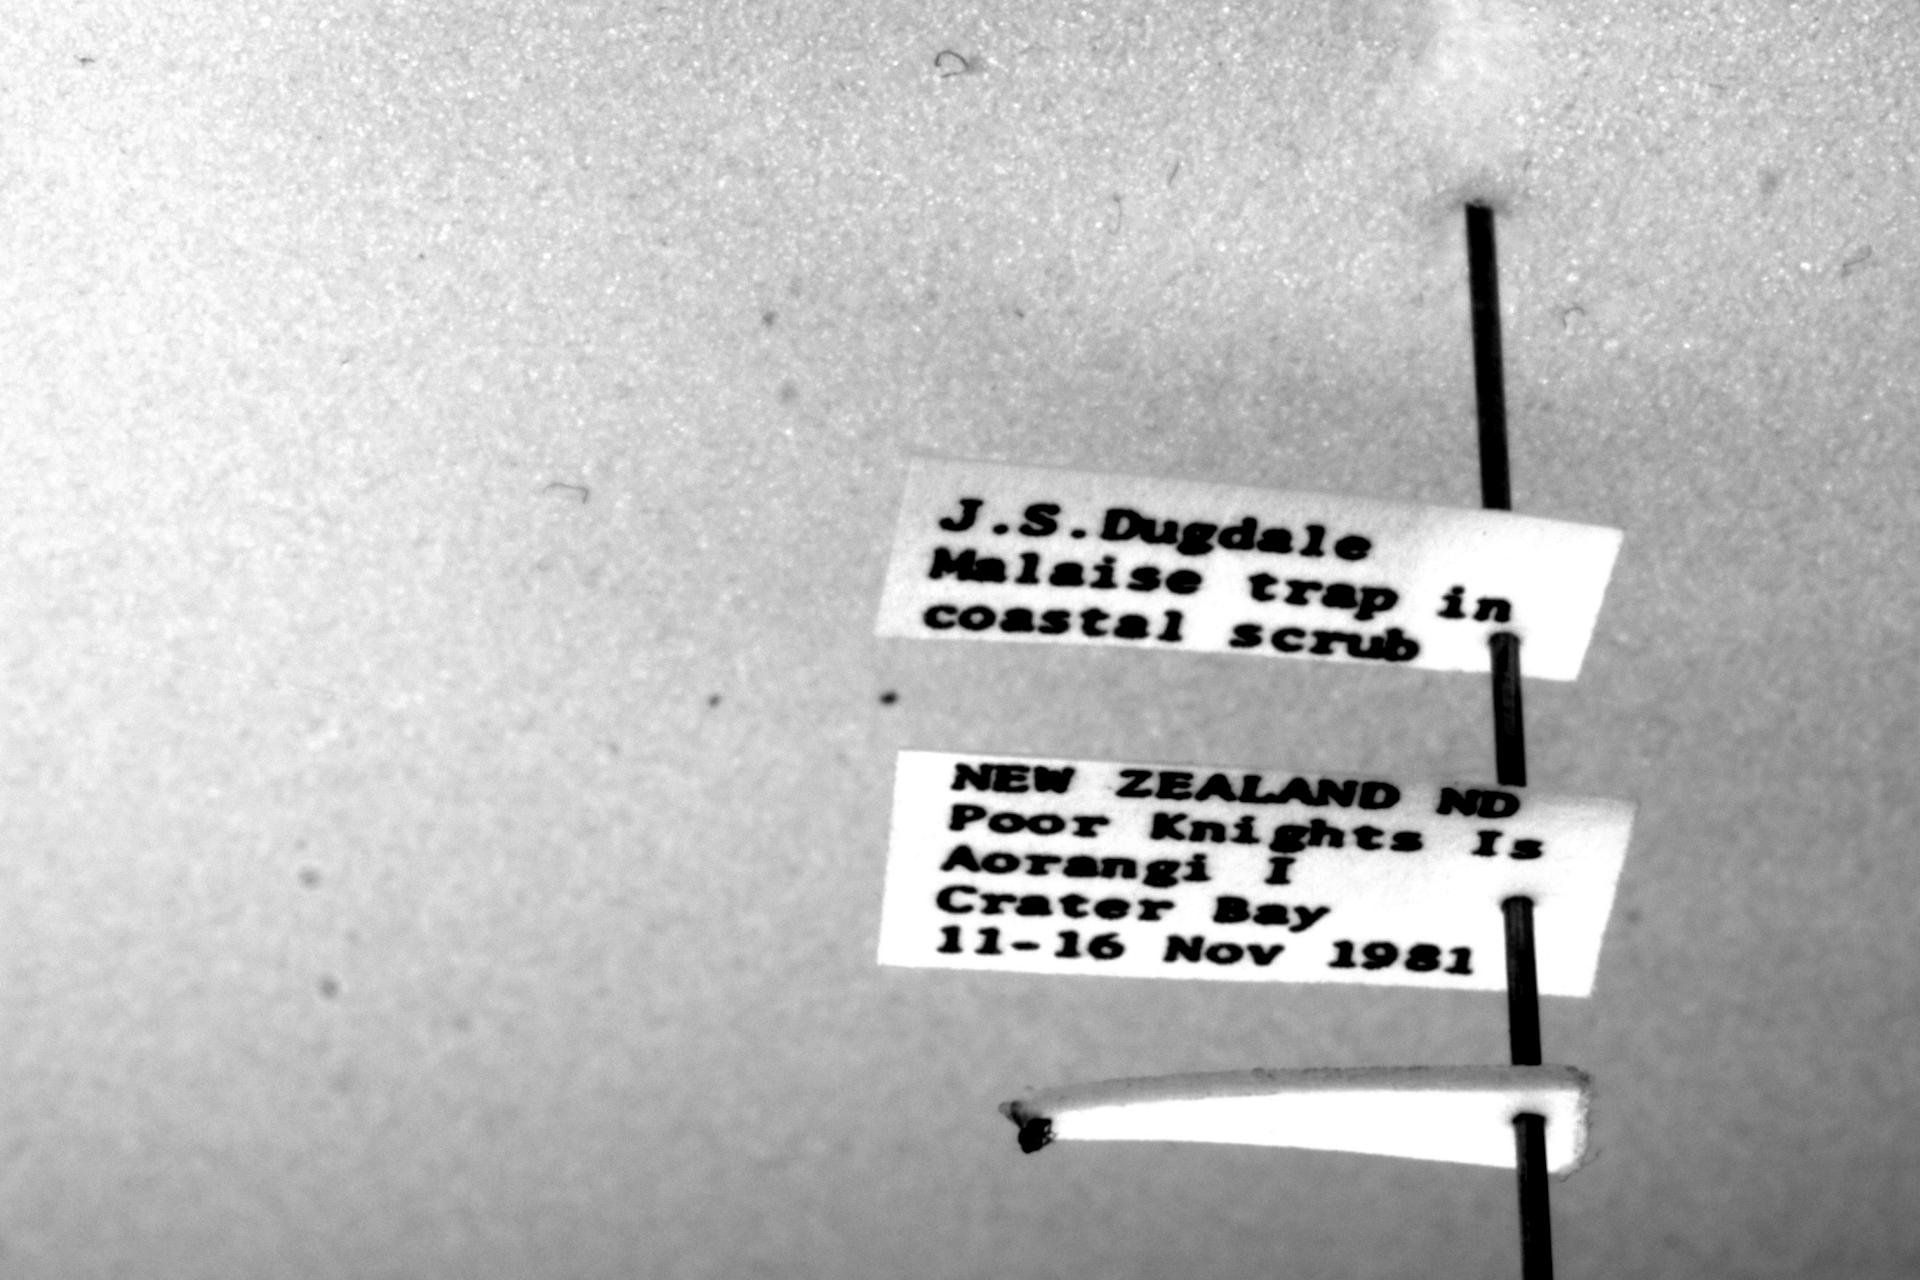typed_label: (878, 750, 1635, 998), (878, 458, 1624, 679)
